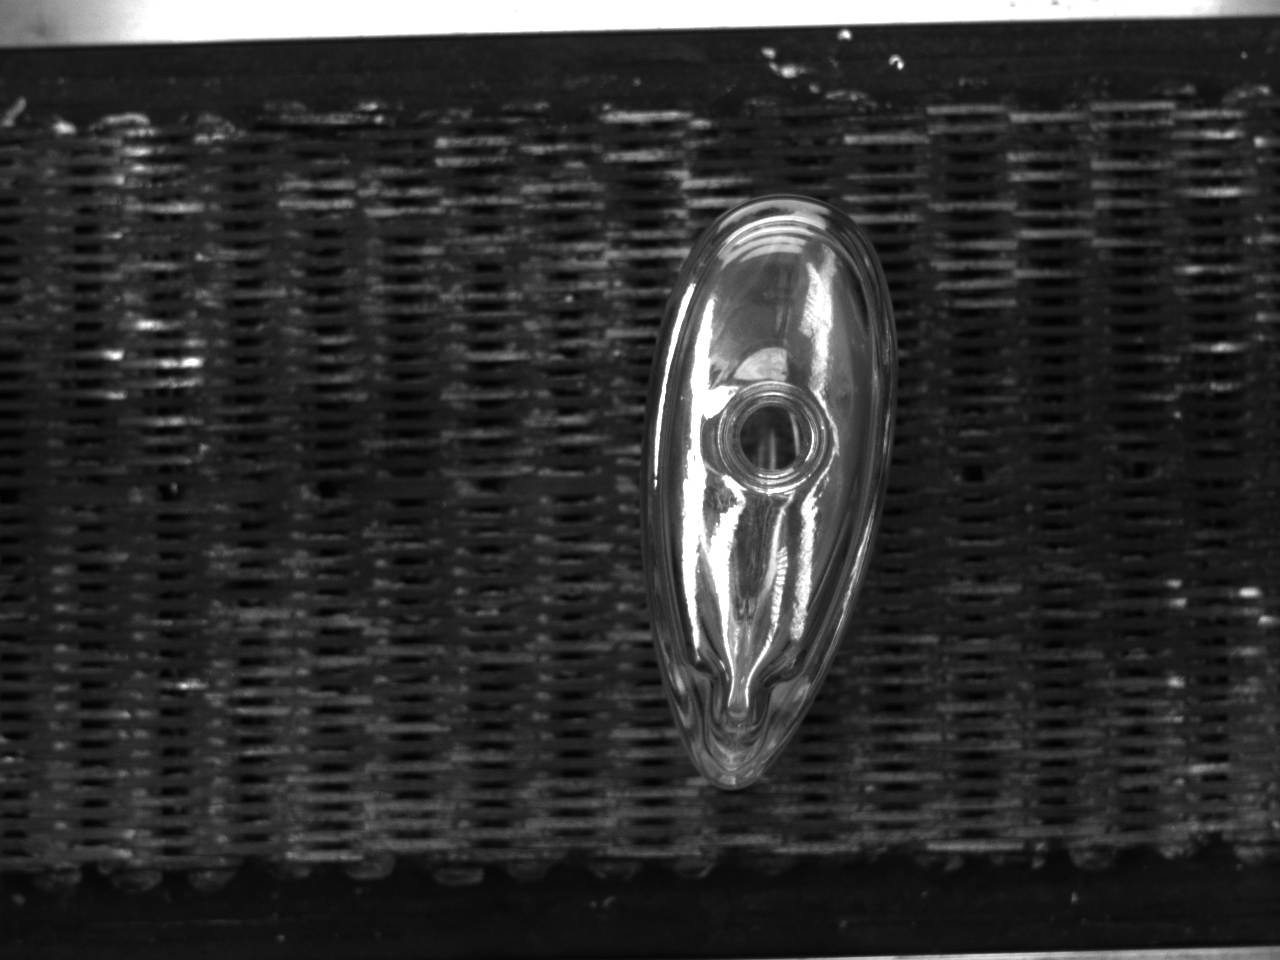bottleneck: (718, 382, 833, 493)
